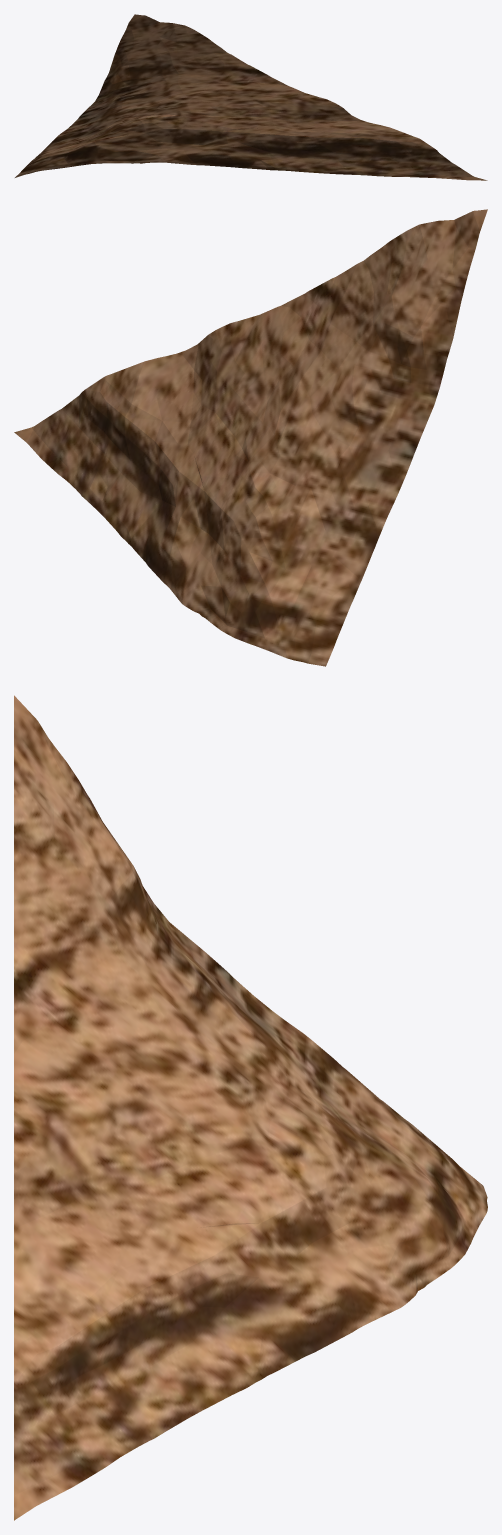
3 views of the same model, one above another, from view 1: azimuth 30°, elevation 25°; view 2: azimuth 150°, elevation 25°; view 3: azimuth 270°, elevation 25° (orthographic). The views are drawn at different scales.
Size of the model in its own units: 0.5597 by 0.3822 by 0.3346.
1 material, 1 textured.
